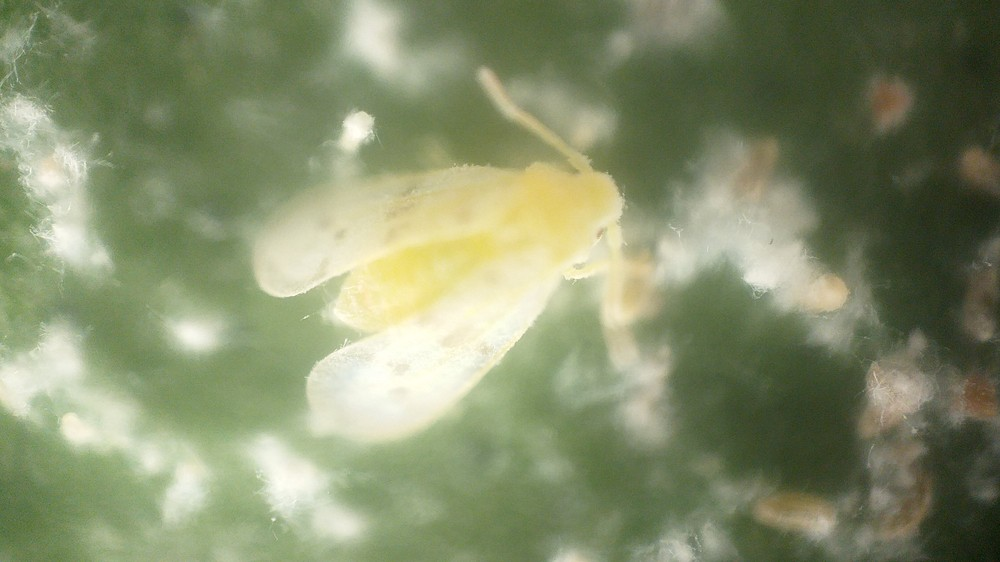Mosca Blanca: (253, 64, 653, 444)
